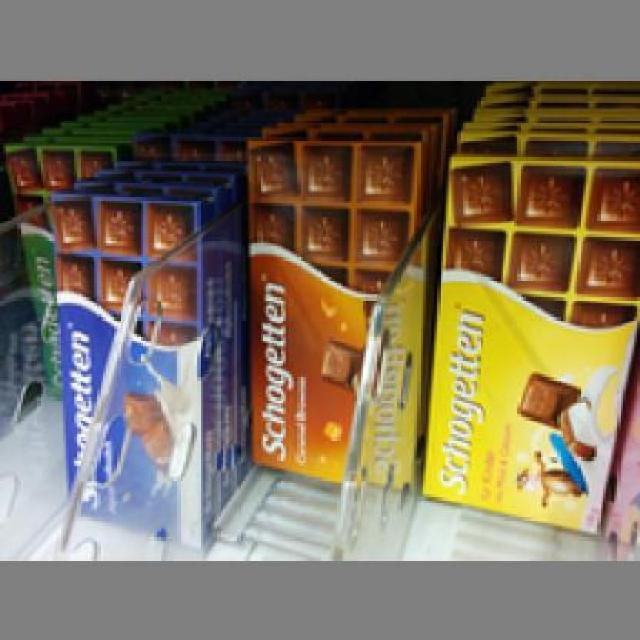Chocolate bar: (417, 157, 637, 532), (234, 130, 416, 487), (46, 193, 209, 536)
